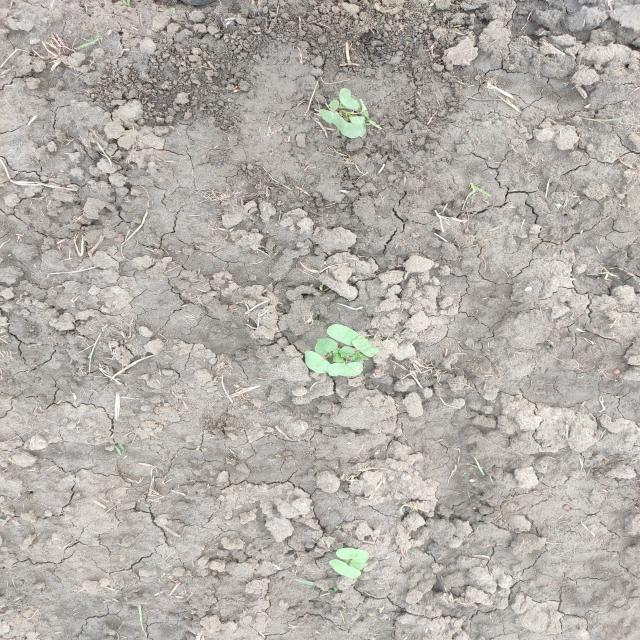seedling: (327, 324, 361, 346), (304, 350, 331, 374), (329, 559, 361, 579), (334, 118, 363, 138), (352, 336, 378, 357), (328, 362, 363, 377), (336, 548, 369, 562), (339, 88, 359, 110), (315, 338, 338, 355), (319, 109, 343, 124), (350, 352, 369, 362), (349, 560, 368, 570), (332, 350, 345, 363), (339, 347, 354, 358), (349, 116, 365, 125), (327, 99, 340, 110)
